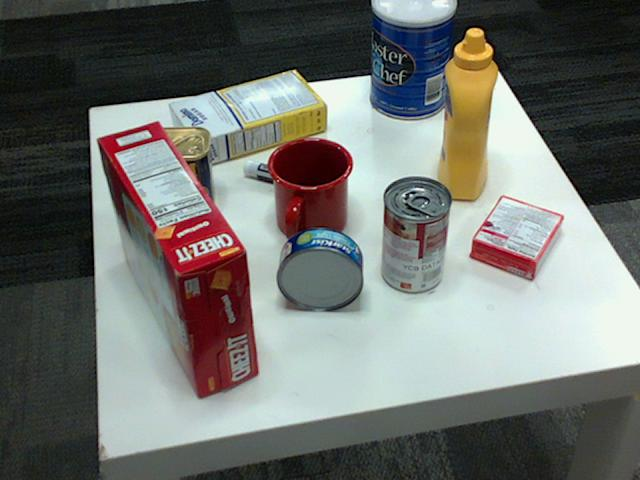cracker_box: (95, 120, 259, 395)
gelatin_box: (471, 195, 564, 279)
large_marker: (242, 163, 340, 197)
master_chef_can: (368, 0, 454, 119)
mug: (268, 134, 355, 240)
mustard_bottle: (437, 29, 497, 199)
potted_meat_can: (115, 126, 214, 216)
sugar_box: (169, 69, 328, 165)
tomato_soup_can: (381, 176, 451, 292)
tuna_fish_can: (277, 227, 364, 310)
